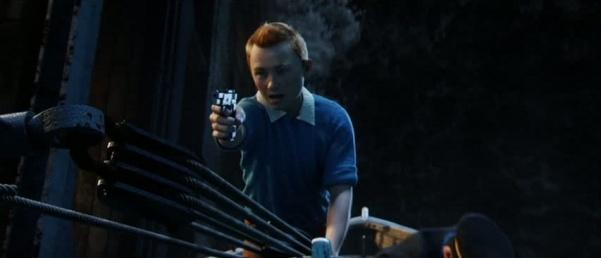Gun: (214, 88, 237, 119)
